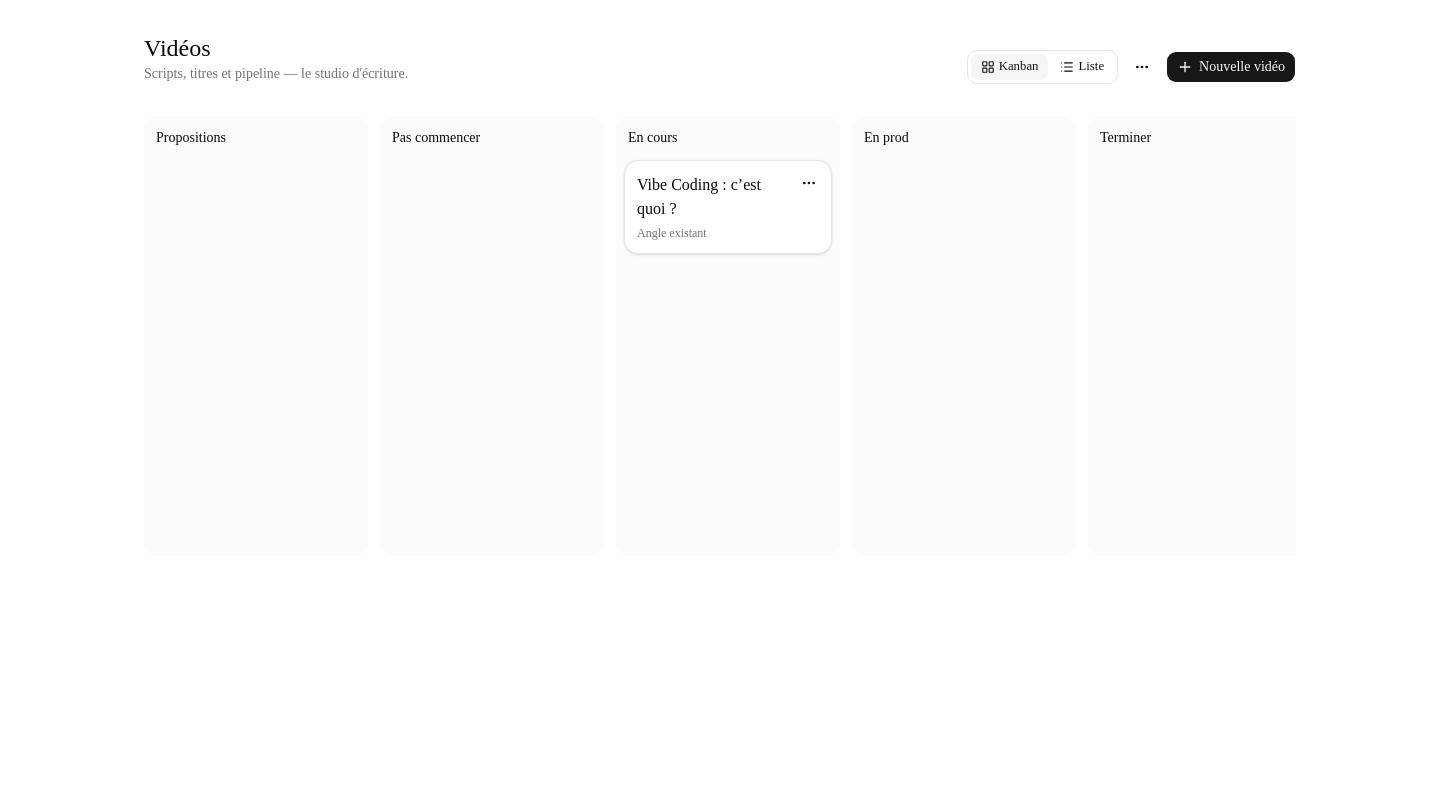
VideosBoard › keeps the card and shows the error when DELETE fails
The width and height of the screenshot is (1440, 810).
Step 1. Click the button named "Actions pour Vibe Coding : c’est quoi ?" → (809, 183), box [793,167,825,199]
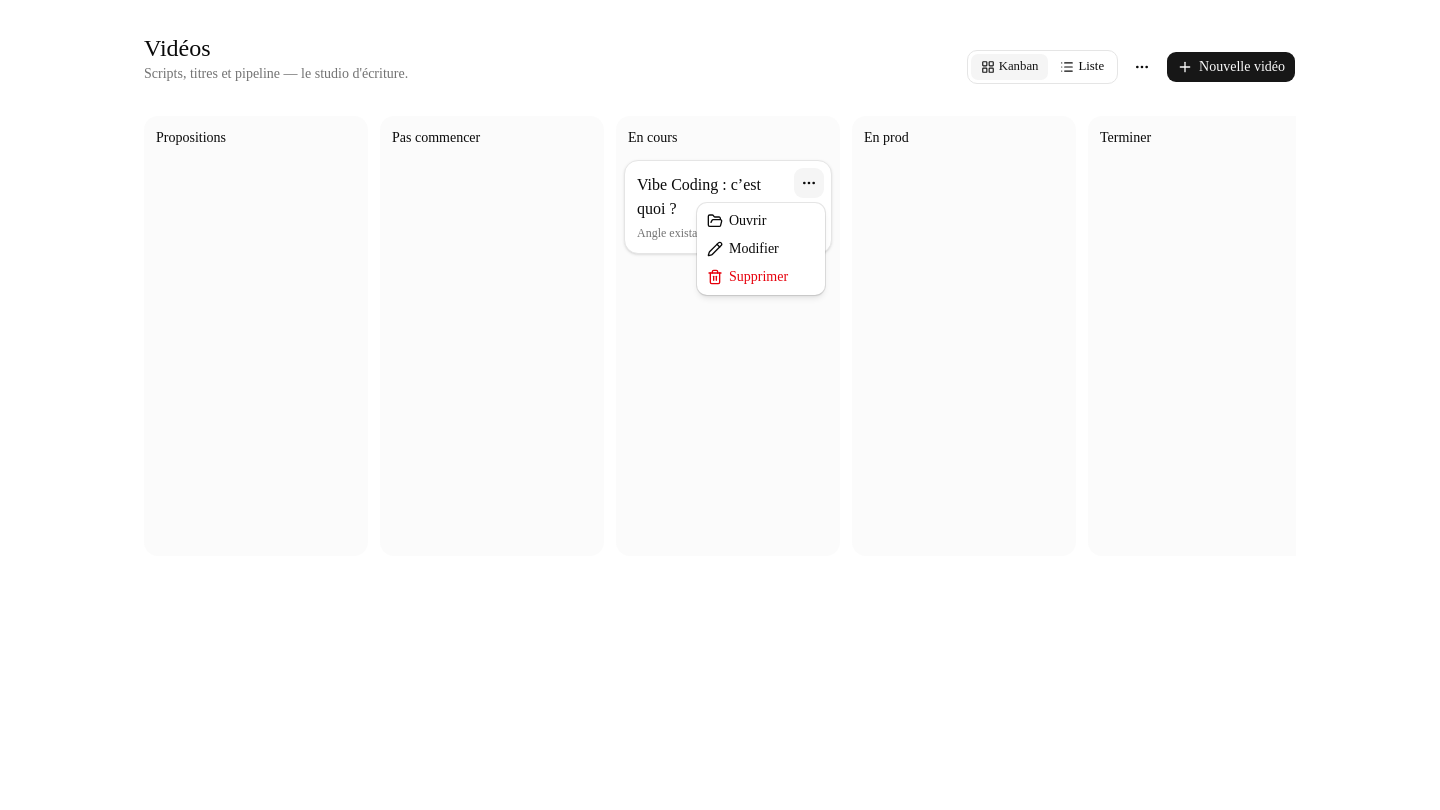
Step 2. Click the menu item "Supprimer" → (748, 277), box [707,269,788,285]
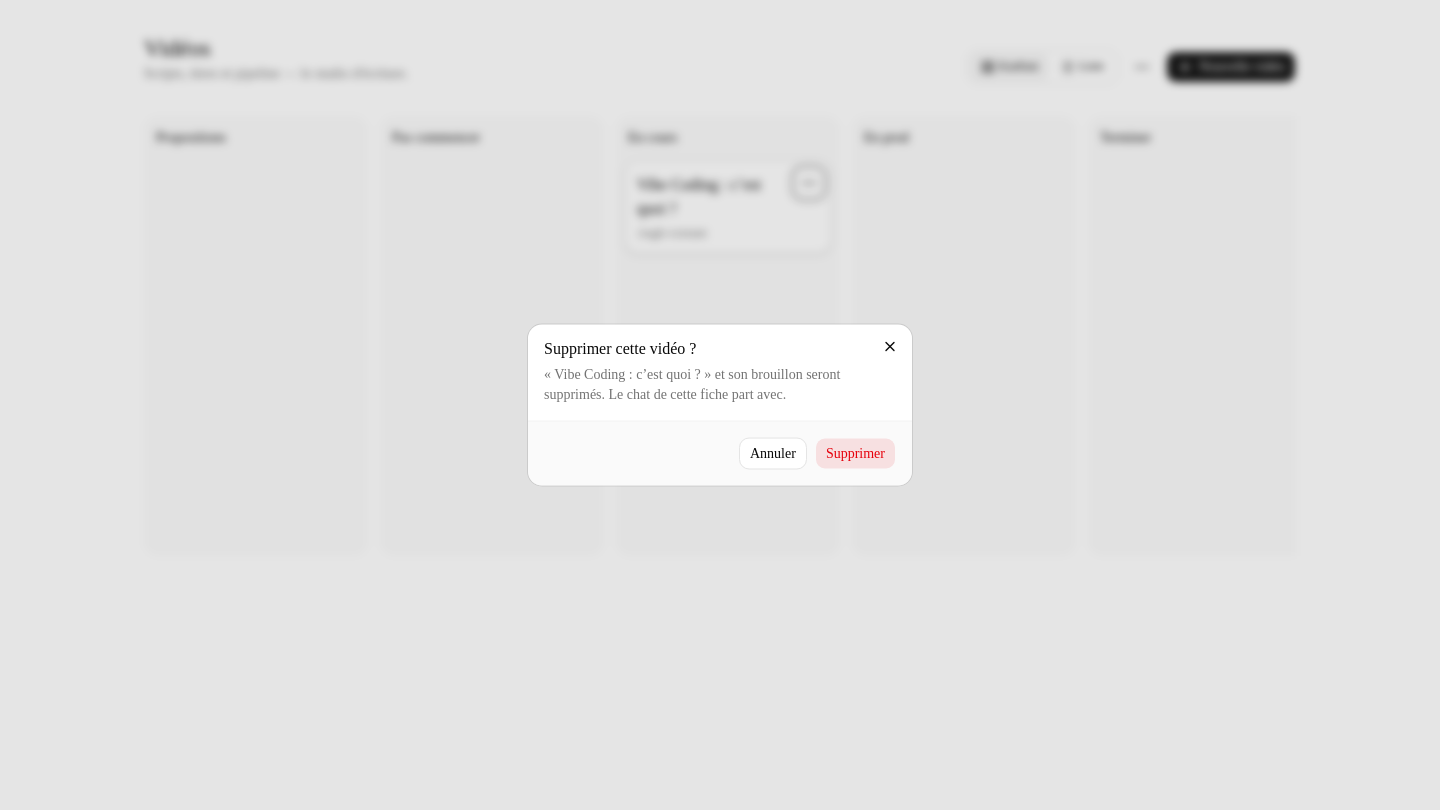
Step 3. Click the button "Supprimer" → (855, 454), box [815,438,896,470]
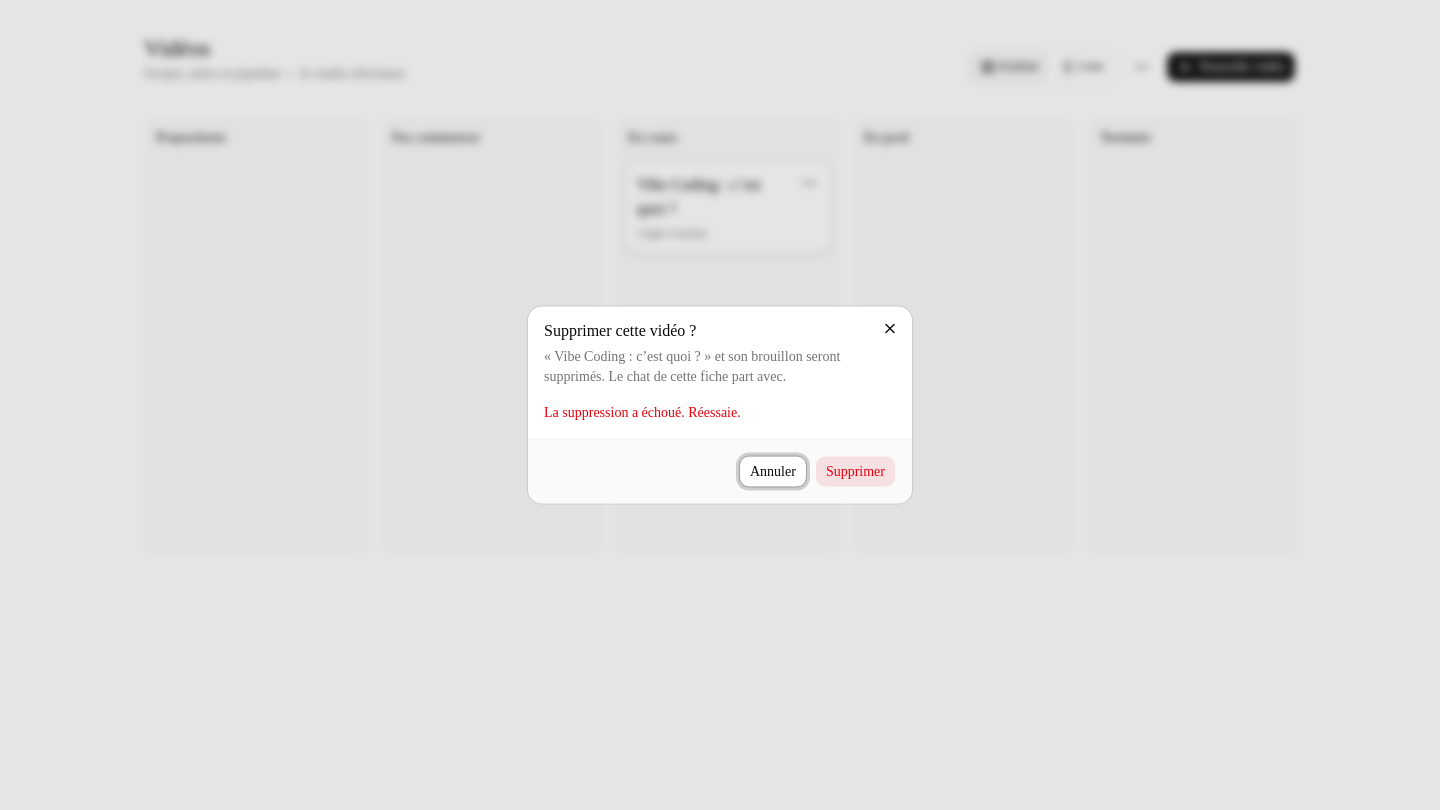
Expected: the text "Vibe Coding" is shown, [637,176,761,217]
Now the message "La suppression a échoué. Réessaie." is shown, box [544,404,741,420]
